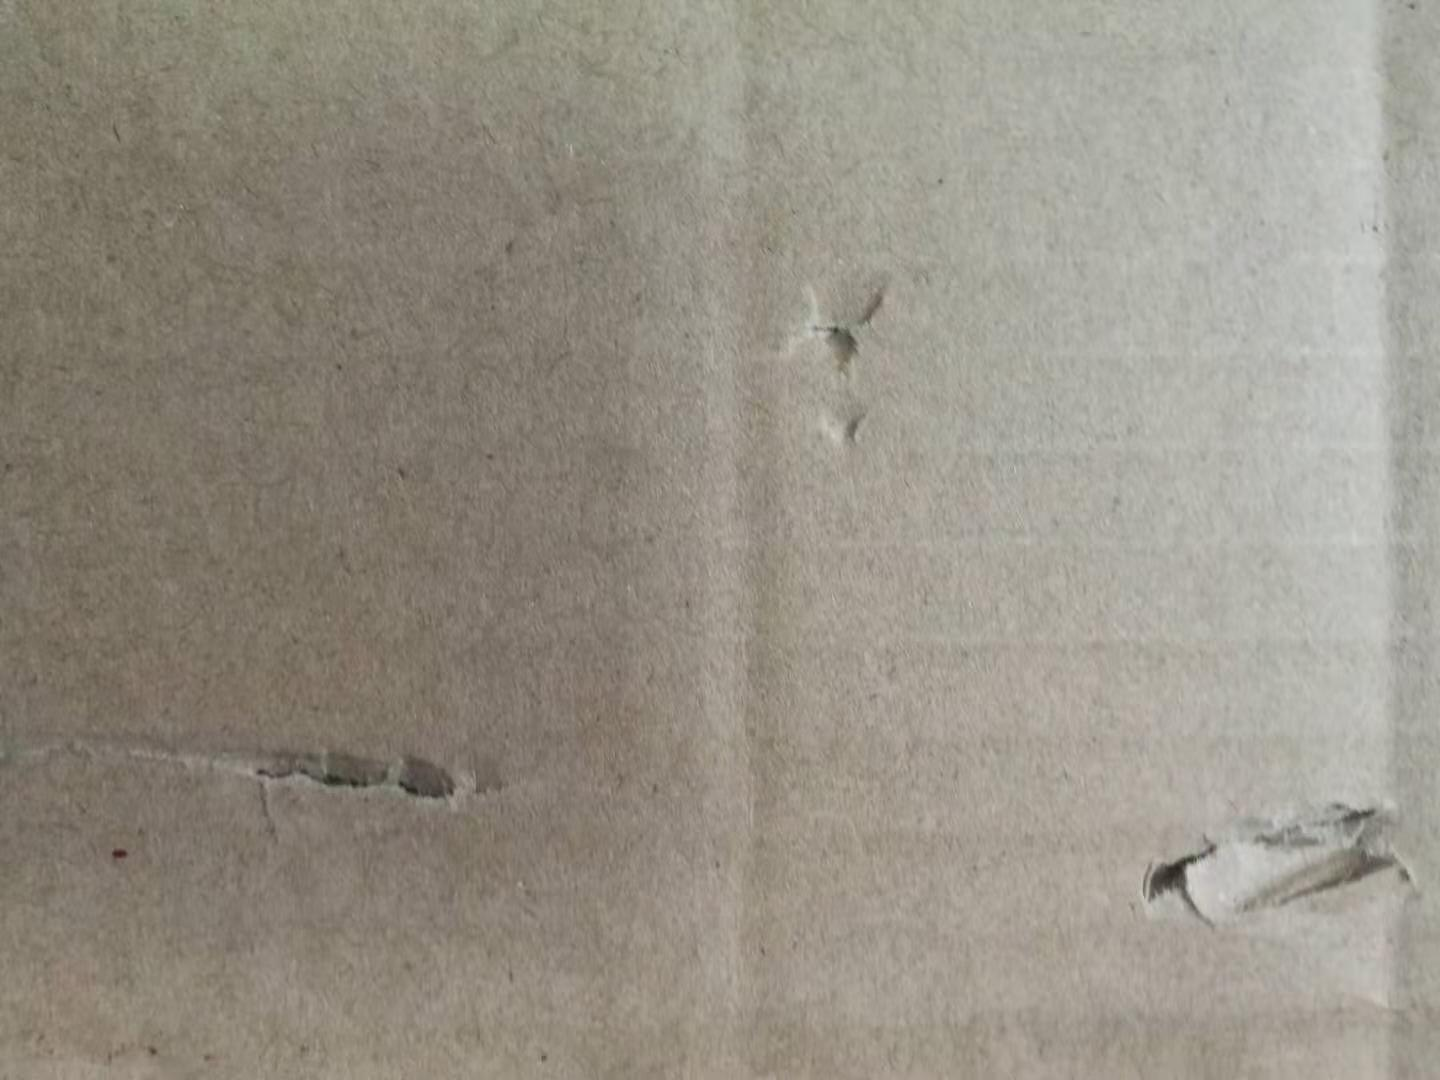defect: (697, 1, 838, 1080), (1356, 2, 1435, 1080), (11, 700, 559, 841), (1123, 774, 1440, 955), (774, 258, 934, 476)
